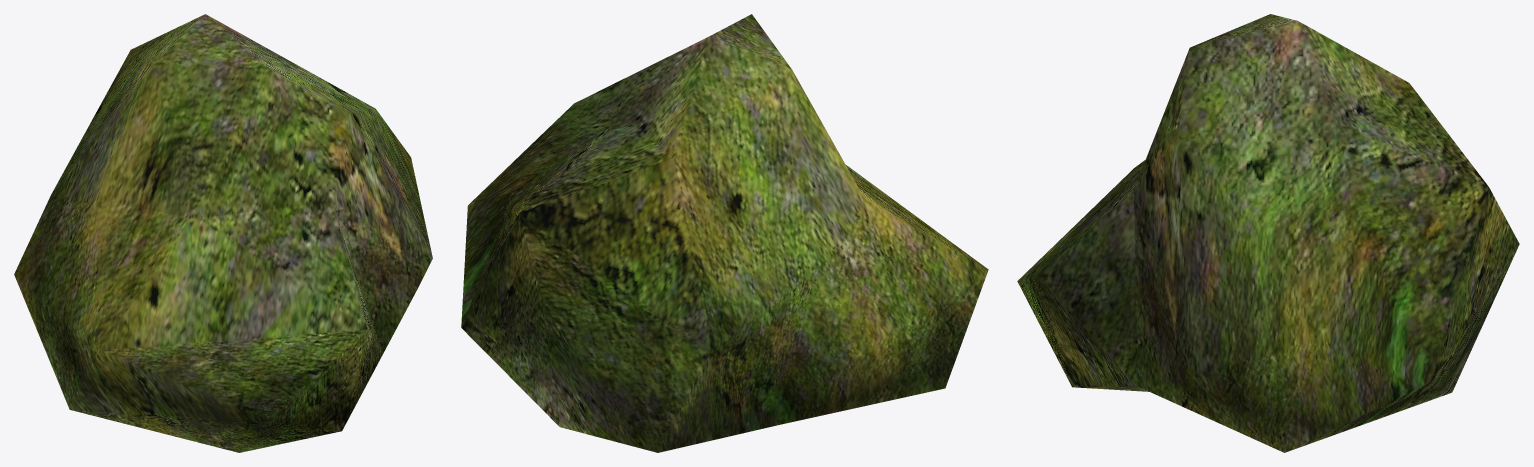
The model's file is rock_endr_mossyrock_sm_a1_l2.fbx.
3 renders of one model, left to right at view 1: azimuth 30°, elevation 25°; view 2: azimuth 150°, elevation 25°; view 3: azimuth 270°, elevation 25°, orthographic. The views are drawn at different scales.
Visible parts, largest first — view 1: mesh_node; view 2: mesh_node; view 3: mesh_node.
Part boxes in pixels (box(x1,y1,x2,y2)): mesh_node: box(14, 14, 432, 452); mesh_node: box(461, 14, 988, 452); mesh_node: box(1017, 14, 1519, 452).
Size of the model in its own units: 0.9457 by 0.8127 by 0.9985.
